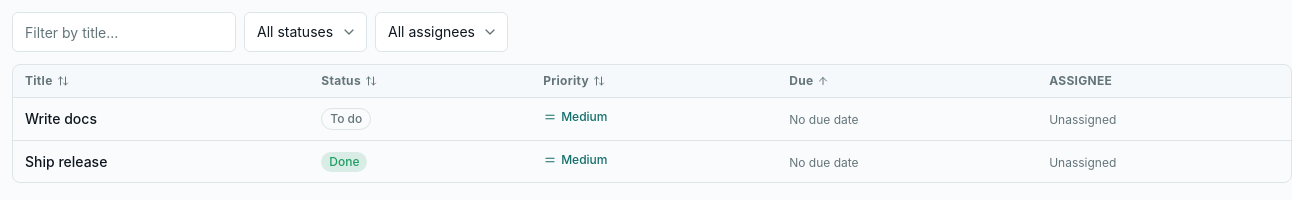
it: TaskListView › filters tasks by status
Select "done" in the dropdown named "Filter by status" at (306,32), box [244,12,367,52]
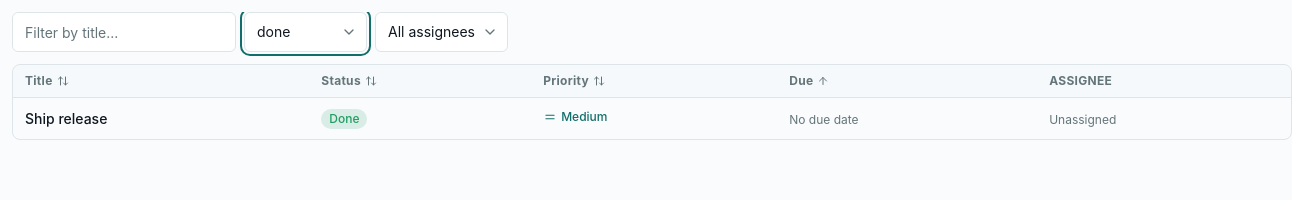
Check: the text "Ship release" is shown, box [13,98,309,139]
Check: the text "Write docs" is gone
